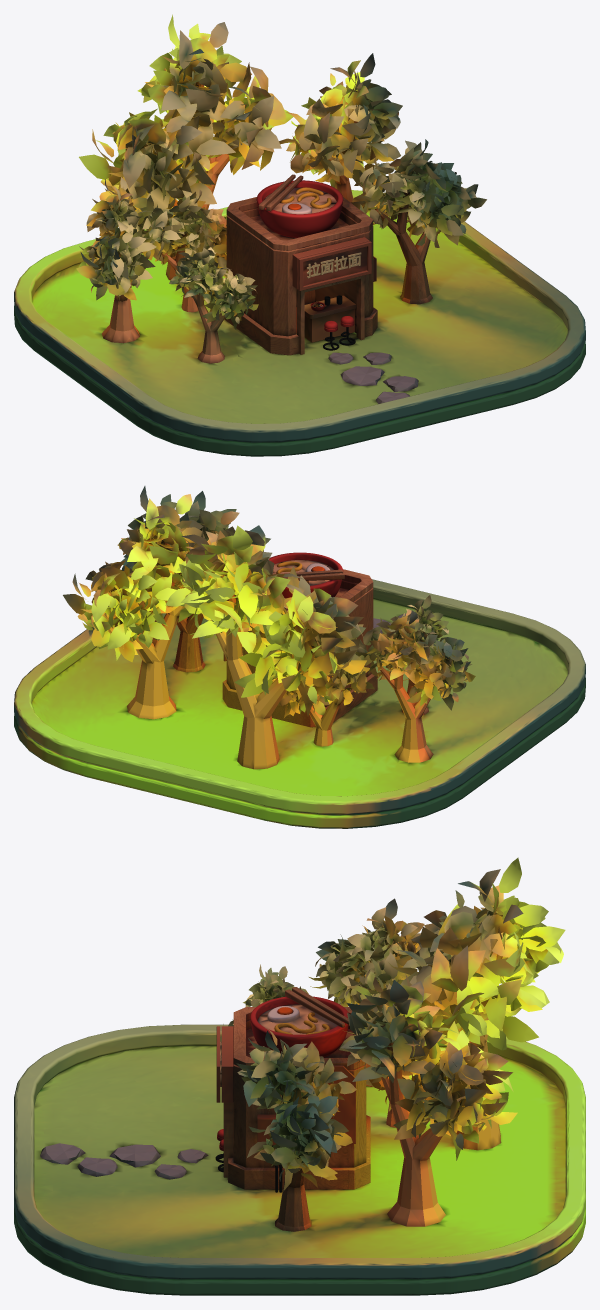
3 views of the same model, one above another, from view 1: azimuth 30°, elevation 25°; view 2: azimuth 150°, elevation 25°; view 3: azimuth 270°, elevation 25° (orthographic). The views are drawn at different scales.
Parts seen in each view (by area): view 1: Plane, leaves.002, Plane.002, Cube, leaves.005, leaves, leaves.001, leaves.004, leaves.003, Plane.001, Circle, trunk (+10 smaller); view 2: Plane, leaves.002, Plane.002, leaves.005, leaves.001, trunk.002, trunk.005, leaves.003, Cube, trunk.001, Cube.002, leaves (+4 smaller); view 3: Plane, Plane.002, leaves.002, leaves.005, leaves, leaves.001, Cube, trunk.005, Cube.002, Circle, trunk, Plane.001 (+8 smaller).
Part boxes in pixels (x1=…): Plane: x1=14, y1=210, x2=585, y2=456; leaves.002: x1=79, y1=14, x2=293, y2=220; Plane.002: x1=14, y1=190, x2=585, y2=442; Cube: x1=226, y1=197, x2=373, y2=336; leaves.005: x1=279, y1=53, x2=402, y2=187; leaves: x1=351, y1=139, x2=486, y2=247; leaves.001: x1=76, y1=177, x2=180, y2=301; leaves.004: x1=169, y1=247, x2=258, y2=329; leaves.003: x1=143, y1=189, x2=226, y2=277; Plane.001: x1=292, y1=237, x2=371, y2=290; Circle: x1=256, y1=180, x2=343, y2=237; trunk: x1=375, y1=179, x2=432, y2=304; Plane: x1=14, y1=599, x2=585, y2=828; leaves.002: x1=165, y1=525, x2=366, y2=716; Plane.002: x1=14, y1=579, x2=585, y2=814; leaves.005: x1=63, y1=486, x2=223, y2=662; leaves.001: x1=355, y1=609, x2=475, y2=710; trunk.002: x1=210, y1=575, x2=286, y2=769; trunk.005: x1=127, y1=543, x2=184, y2=719; leaves.003: x1=272, y1=624, x2=374, y2=717; Cube: x1=226, y1=569, x2=373, y2=706; trunk.001: x1=377, y1=666, x2=433, y2=762; Cube.002: x1=222, y1=674, x2=377, y2=727; leaves: x1=121, y1=491, x2=239, y2=616; Plane: x1=14, y1=1046, x2=585, y2=1295; Plane.002: x1=14, y1=1024, x2=585, y2=1279; leaves.002: x1=388, y1=857, x2=565, y2=1050; leaves.005: x1=339, y1=980, x2=517, y2=1160; leaves: x1=236, y1=1028, x2=356, y2=1191; leaves.001: x1=309, y1=898, x2=424, y2=1006; Cube: x1=233, y1=1007, x2=366, y2=1167; trunk.005: x1=380, y1=1025, x2=459, y2=1226; Cube.002: x1=227, y1=1115, x2=370, y2=1189; Circle: x1=250, y1=996, x2=348, y2=1057; trunk: x1=275, y1=1087, x2=311, y2=1231; Plane.001: x1=216, y1=1026, x2=233, y2=1102.
Bounding box in the file's own units: 16 × 10.36 × 16.
Materials: 17 (1 with a texture image).
